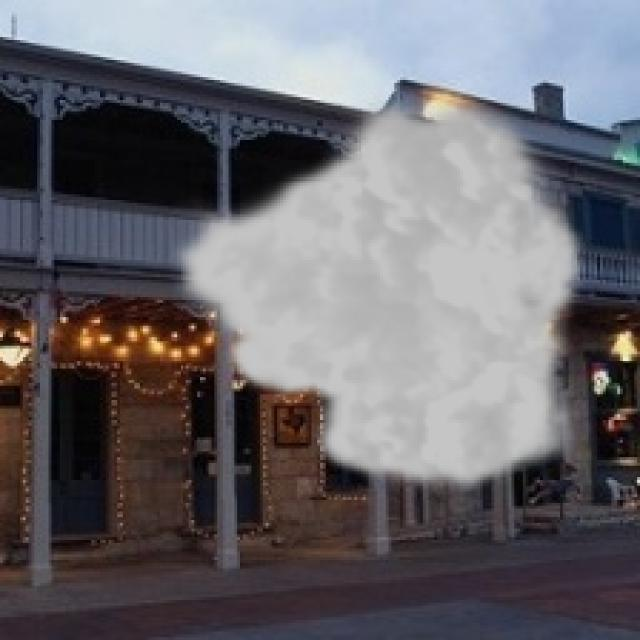smoke: (166, 89, 588, 497)
